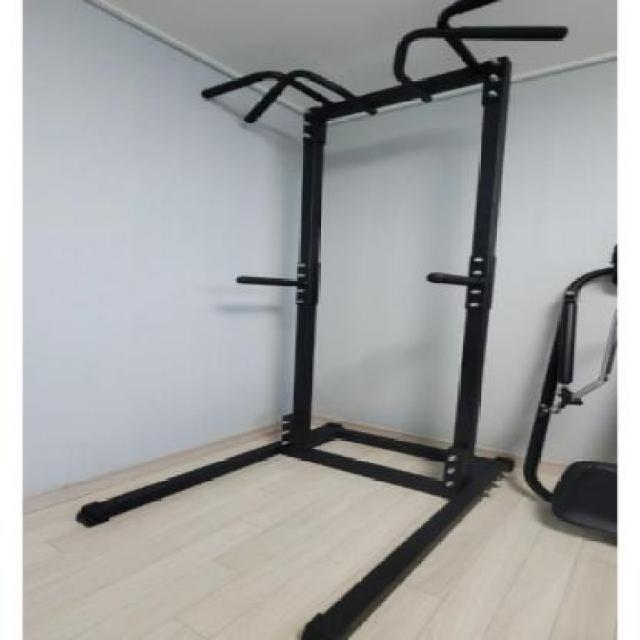chinning dipping: (78, 1, 518, 640)
